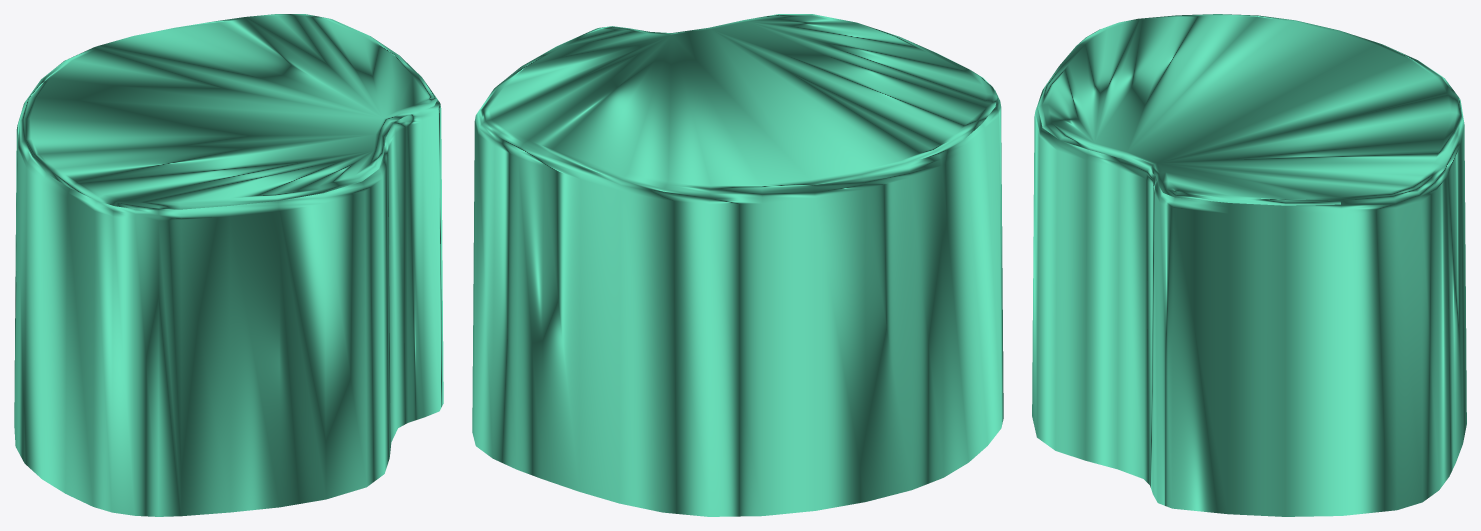
The model's file is ra_lorville_suburb_18_autopilotzone.glb.
3 renders of one model, left to right at view 1: azimuth 30°, elevation 25°; view 2: azimuth 150°, elevation 25°; view 3: azimuth 270°, elevation 25°, orthographic. The views are drawn at different scales.
Bounding box in the file's own units: 2144 × 1590 × 2009.
